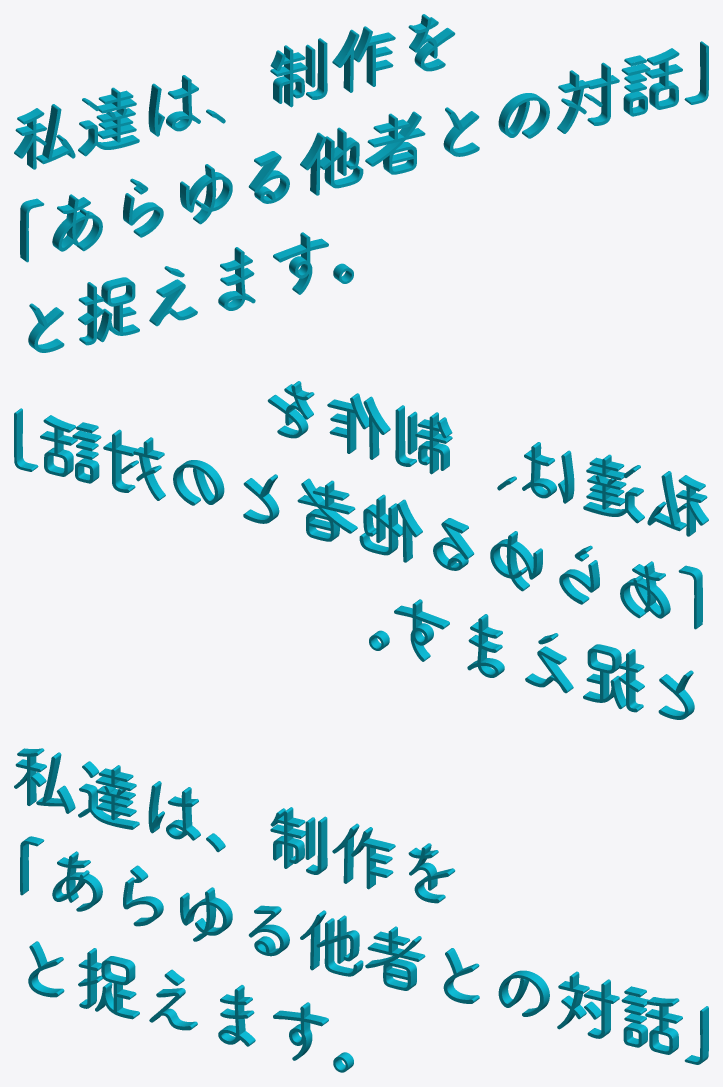
3 views of the same model, one above another, from view 1: azimuth 30°, elevation 25°; view 2: azimuth 150°, elevation 25°; view 3: azimuth 330°, elevation 25° (orthographic).
Visible parts, largest first — view 1: Path (×21), キャップ 1 (×17); view 2: Path (×21), キャップ 2 (×17); view 3: Path (×21), キャップ 1 (×17).
Boxes of the visible parts, <box> form: Path (×21): <box>14,14,681,350</box>; キャップ 1 (×17): <box>20,18,682,345</box>; Path (×21): <box>41,381,708,717</box>; キャップ 2 (×17): <box>40,385,702,712</box>; Path (×21): <box>17,748,682,1057</box>; キャップ 1 (×17): <box>14,753,676,1060</box>.
Bounding box in the file's own units: 1.29 × 0.4439 × 0.02.
